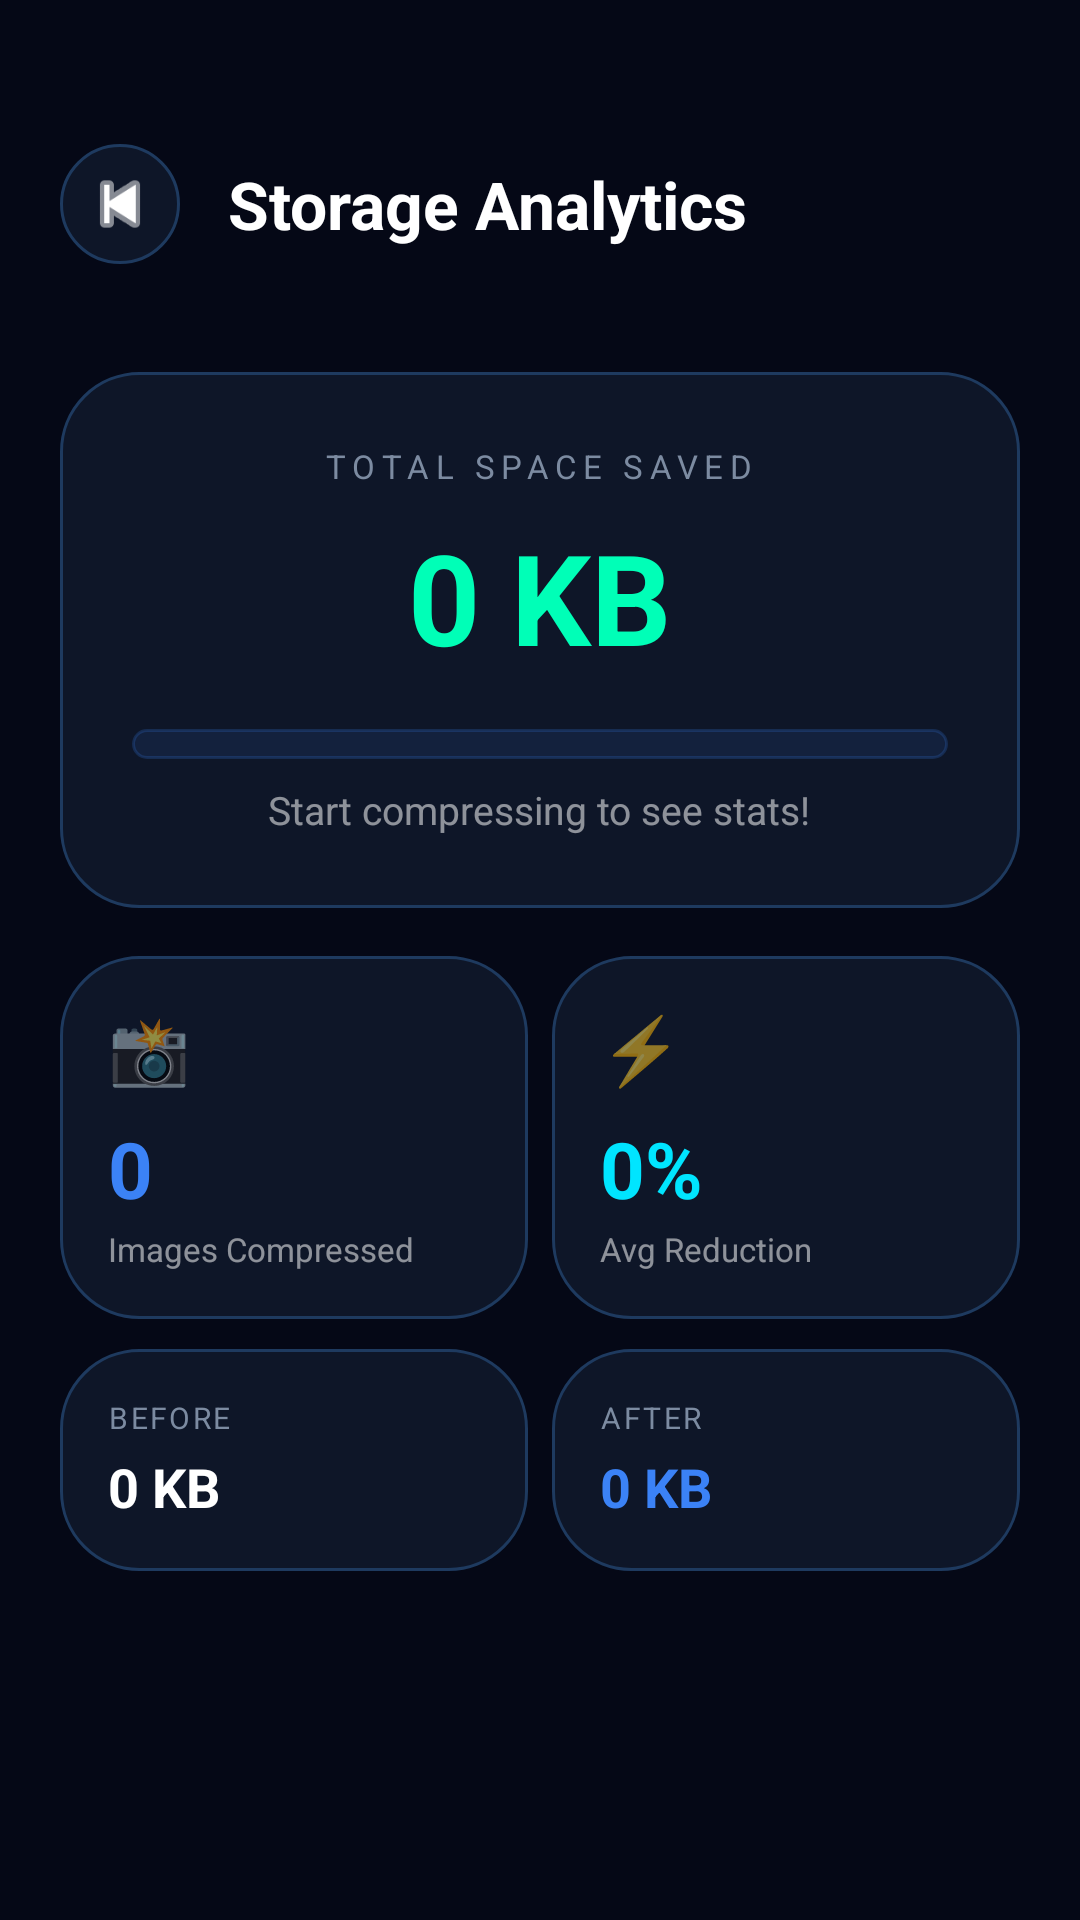

Point at icon controls on the screen. Image size 1080 x 1920, points as (x,y).
previous: (120,204)
